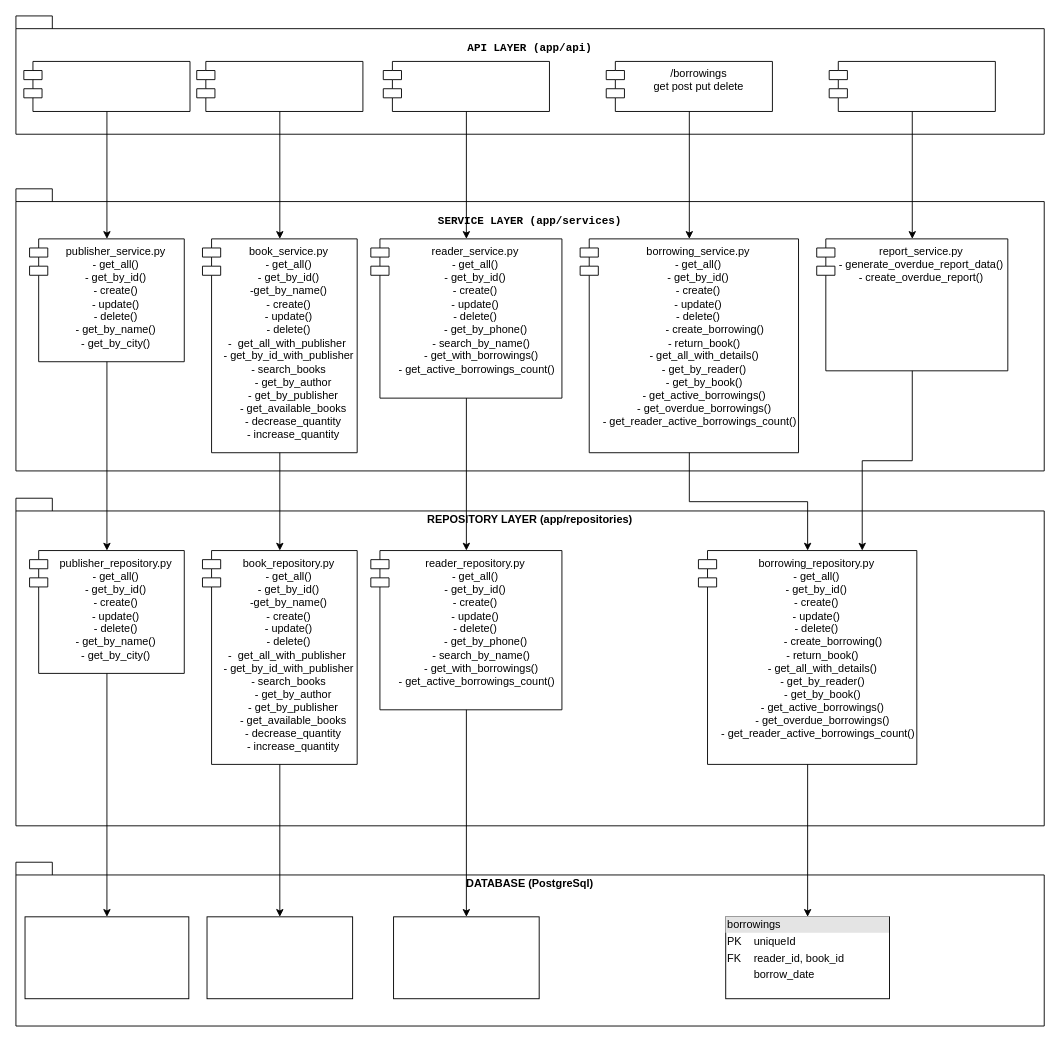
The diagram is 1060 pixels wide and 1042 high, and some of its shapes have lost their labels. Each missing label, with the centre of its shape:
"/books get post put delete" goes at (279,86).
"/publishers get post put delete" goes at (106,86).
"/readers get post put delete" goes at (465,86).
"/reports/overdue get (csv/xlsx)" goes at (911,86).
"books PK id FK1 publisher_id title, author, year, price, quantity" goes at (279,957).
"publishers PK id name city" goes at (106,957).
"readers PK id full_name, address, phone" goes at (466,957).
